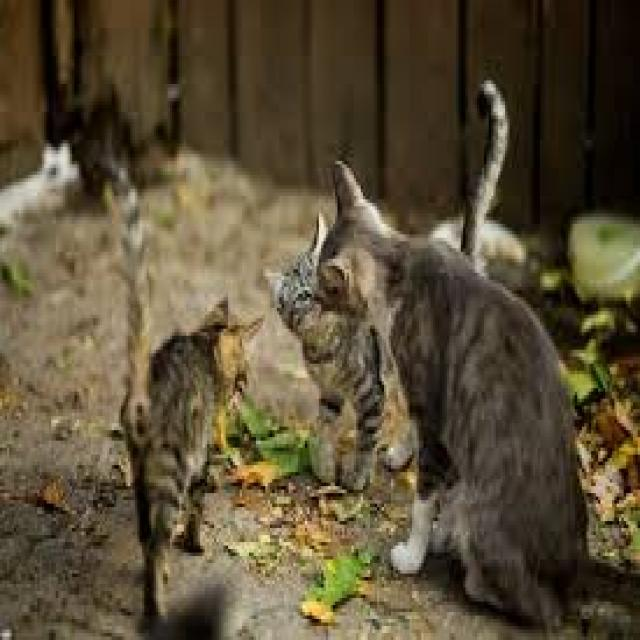Cat: (309, 157, 595, 637), (110, 185, 267, 633)
